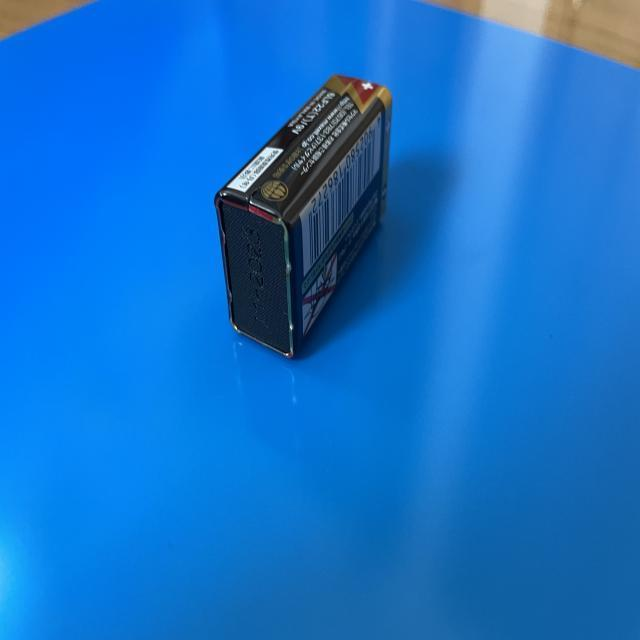9V: (213, 72, 392, 360)
